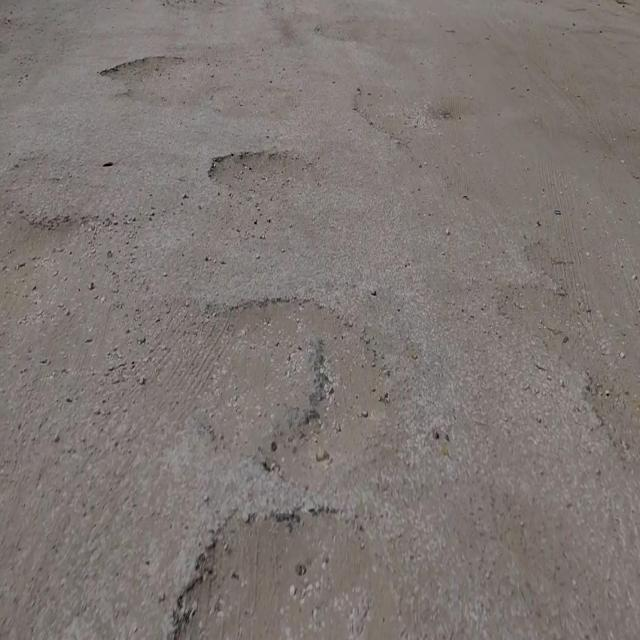Potholes: (178, 294, 395, 486), (164, 501, 403, 640), (204, 144, 313, 201), (96, 53, 185, 78)
